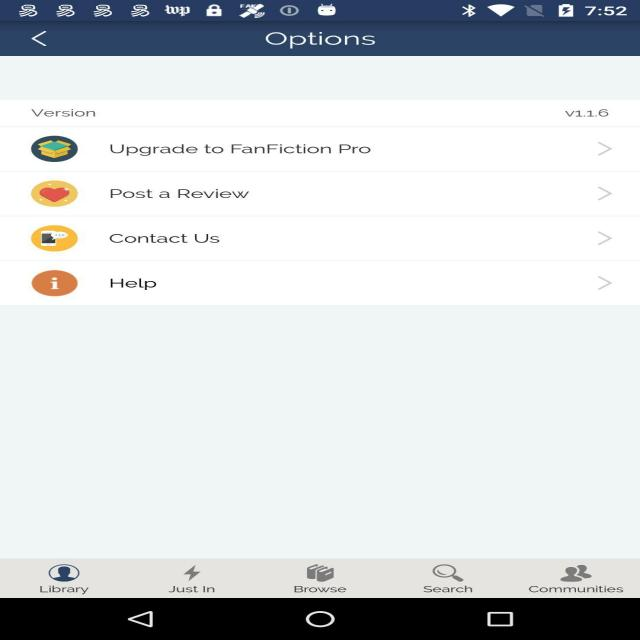button: (517, 553, 640, 605), (406, 552, 518, 598), (291, 558, 386, 602), (34, 555, 116, 601), (157, 557, 235, 600), (571, 269, 640, 309), (576, 175, 630, 214), (8, 25, 86, 52), (573, 226, 632, 255), (575, 136, 640, 162)
icon: (17, 168, 94, 210), (11, 266, 79, 302), (26, 218, 92, 255), (28, 135, 82, 162)
text: (101, 137, 390, 158), (94, 177, 269, 203), (252, 28, 409, 51), (103, 226, 248, 250), (96, 275, 196, 304), (19, 100, 129, 125), (545, 104, 634, 122)
